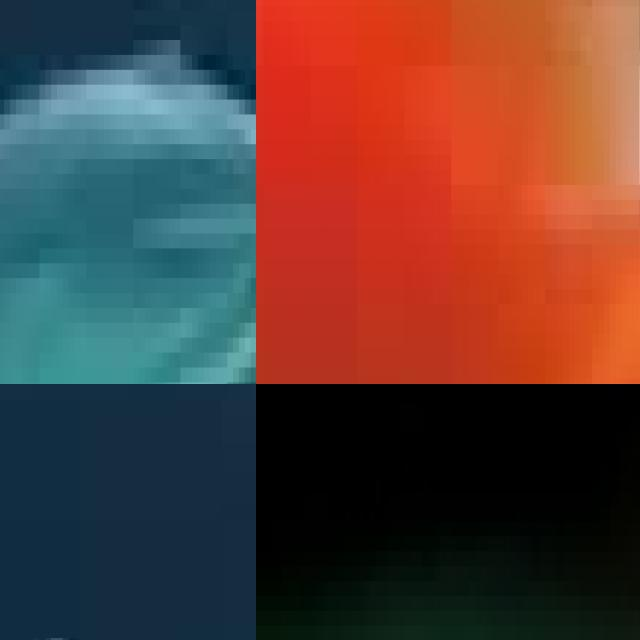fish: (0, 0, 256, 384), (256, 384, 640, 640)
